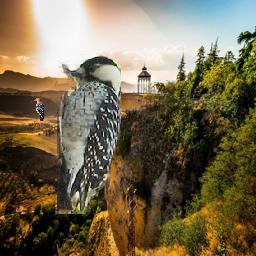Woodpecker: (57, 54, 121, 214), (32, 97, 45, 121)
